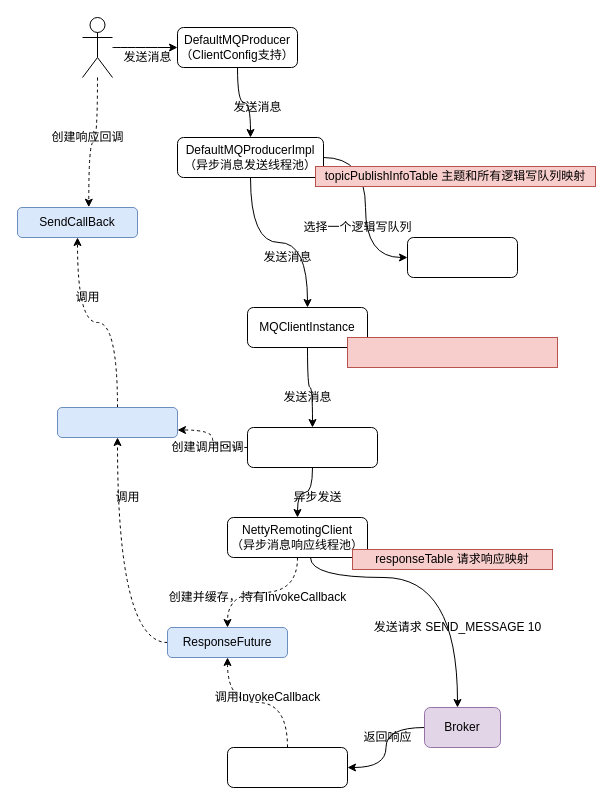
Image size: 613x805. Some labels were removed from this diagram. The centre of each missing label's shape, as x and y in pixels:
"brokerAddrTable 本地Broker缓存 topicRouteTable NameServer远程缓存" belongs at [452,352].
"InvokeCallback" belongs at [117,422].
"MQClientAPIImpl (同步、异步、单向支持)" belongs at [312,447].
"MQFaultStrategy" belongs at [462,257].
"NettyClientHandler" belongs at [287,767].
